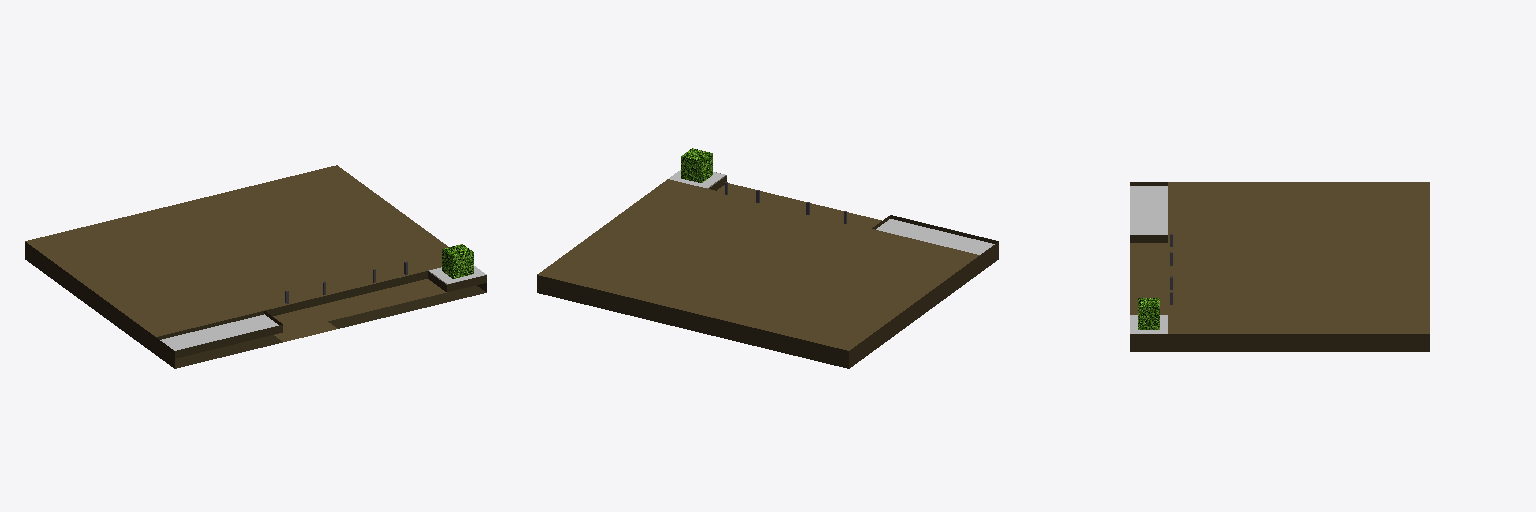
The picture shows the model from 3 angles: view 1: azimuth 30°, elevation 25°; view 2: azimuth 150°, elevation 25°; view 3: azimuth 270°, elevation 25°; orthographic projection.
Visible parts, largest first — view 1: Cubo.008_Cubo.011; view 2: Cubo.008_Cubo.011; view 3: Cubo.008_Cubo.011.
Boxes of the visible parts, x1=… form: Cubo.008_Cubo.011: x1=25, y1=165, x2=486, y2=368; Cubo.008_Cubo.011: x1=537, y1=148, x2=998, y2=368; Cubo.008_Cubo.011: x1=1130, y1=182, x2=1429, y2=351.
Bounding box in the file's own units: 17.8 × 2.19 × 14.81.
6 materials, 2 textured.